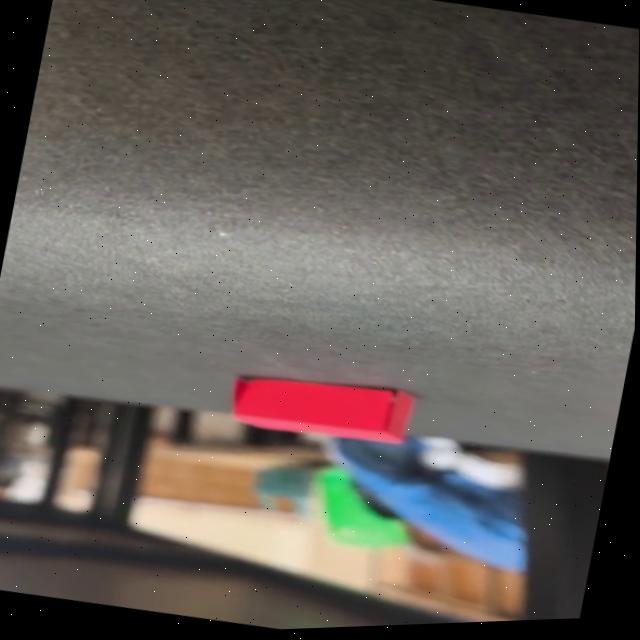red block: (225, 360, 417, 456)
